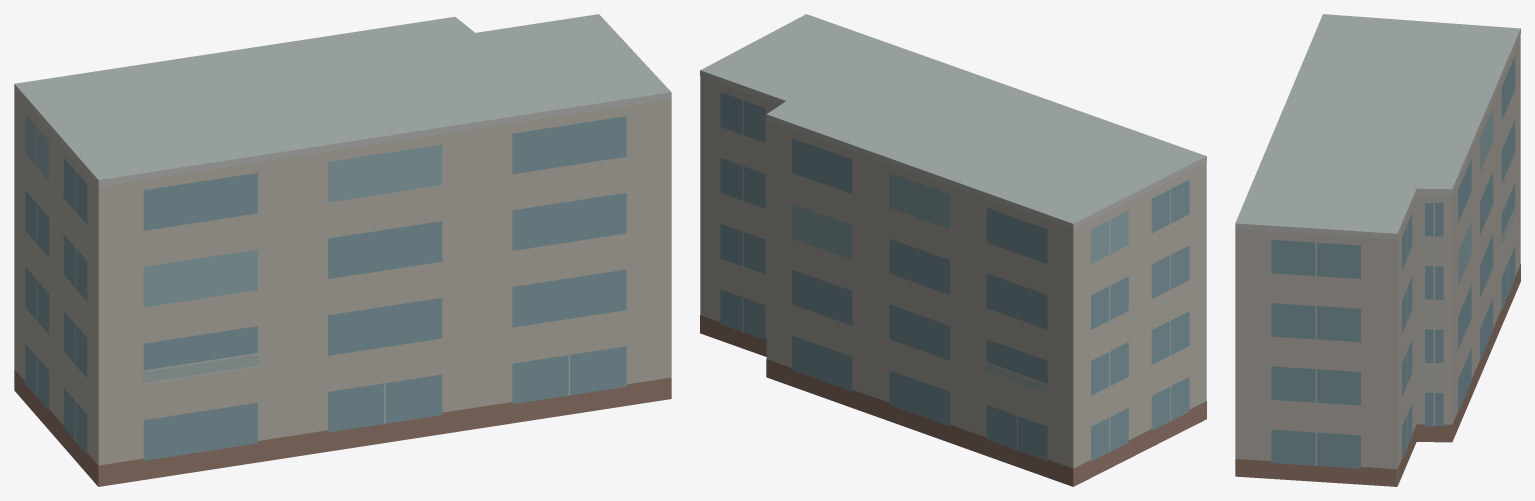
The model's file is survey-upis-32994376.glb.
The picture shows the model from 3 angles, left to right: view 1: azimuth 30°, elevation 25°; view 2: azimuth 150°, elevation 25°; view 3: azimuth 270°, elevation 25°; orthographic projection. The views are drawn at different scales.
Visible parts, largest first — view 1: survey-upis-32994376.tmp; view 2: survey-upis-32994376.tmp; view 3: survey-upis-32994376.tmp.
Boxes of the visible parts, bbox=[...] form: survey-upis-32994376.tmp: bbox=[14, 14, 671, 486]; survey-upis-32994376.tmp: bbox=[700, 14, 1206, 486]; survey-upis-32994376.tmp: bbox=[1235, 14, 1520, 486].
Size of the model in its own units: 20.68 by 11.1 by 11.36.
